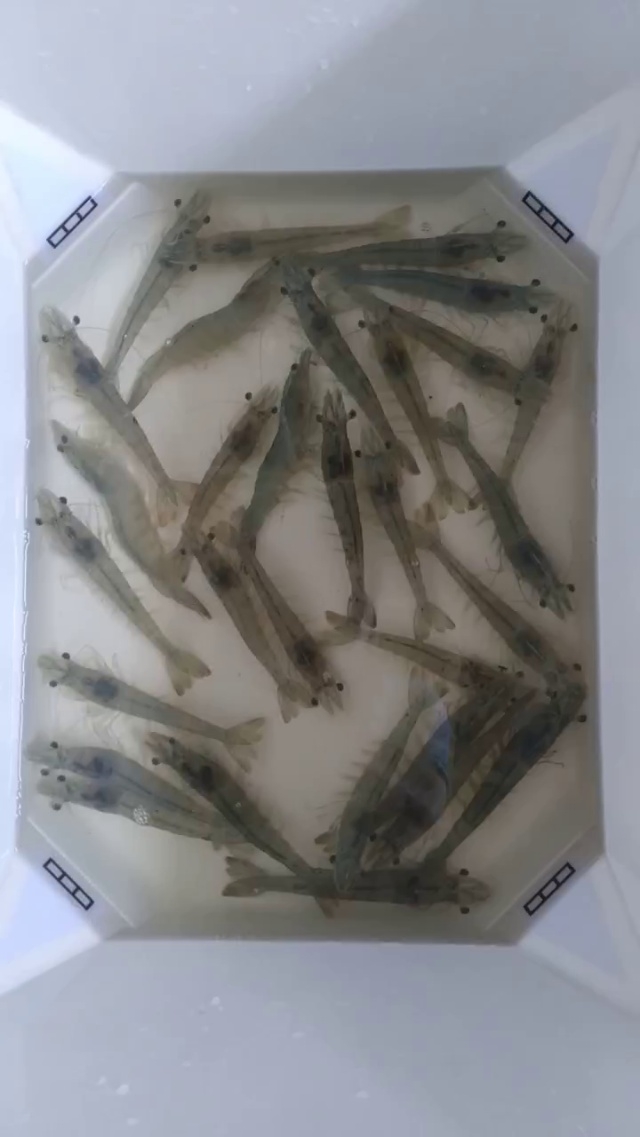shrimp: (536, 206, 639, 478), (539, 537, 639, 810), (0, 330, 101, 563), (294, 293, 418, 473), (402, 774, 513, 939), (24, 561, 118, 746), (20, 206, 105, 407), (102, 686, 209, 837), (304, 240, 426, 372), (435, 403, 528, 568), (117, 192, 209, 355), (493, 173, 595, 317), (178, 498, 265, 665), (0, 763, 98, 909), (41, 307, 144, 443), (37, 488, 141, 620), (297, 763, 379, 916), (27, 655, 108, 803), (250, 224, 372, 317), (249, 351, 314, 516), (491, 513, 571, 646), (372, 631, 497, 694), (320, 601, 375, 708)
